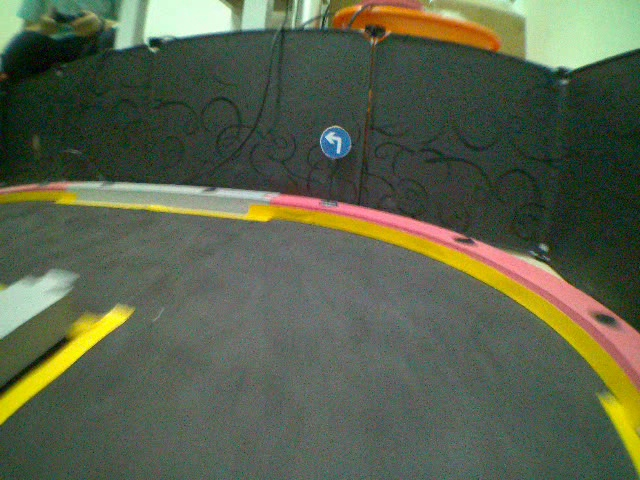turn: (315, 125, 353, 161)
